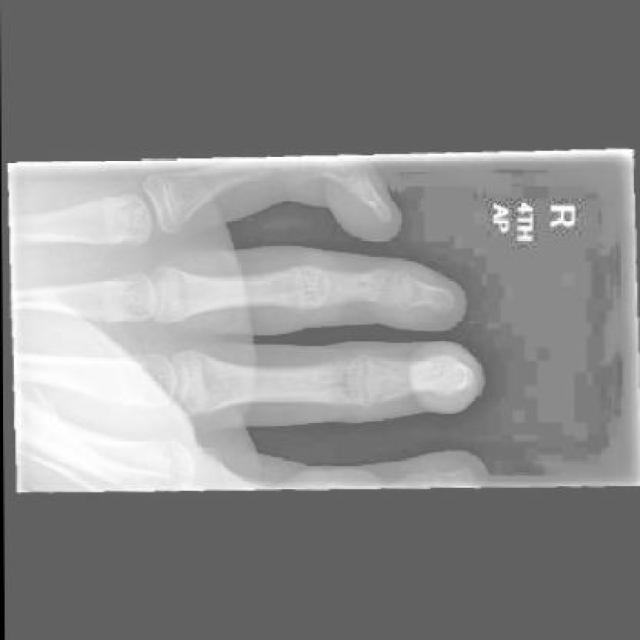Fracture: (303, 263, 331, 305)
